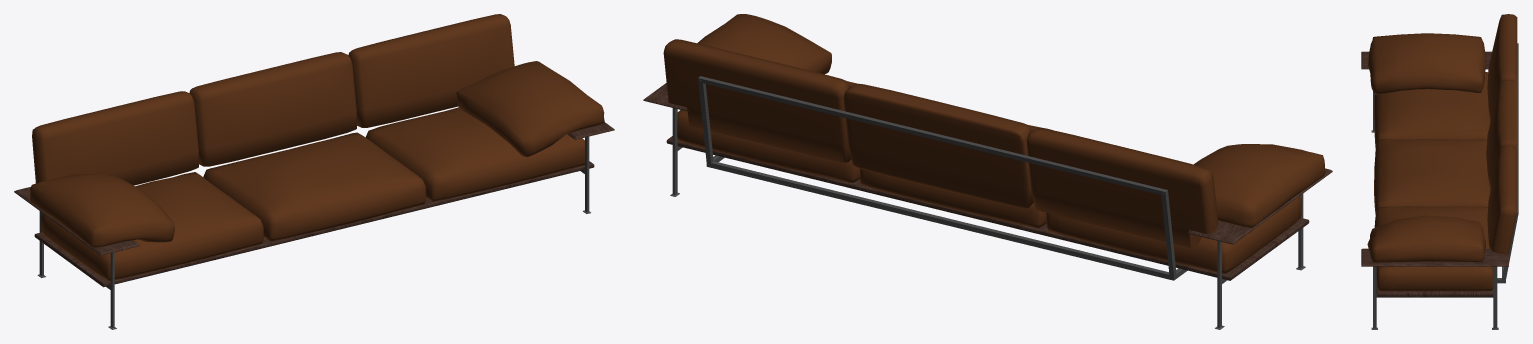
Rendered from luxury_sofa.glb.
The picture shows the model from 3 angles, left to right: view 1: azimuth 30°, elevation 25°; view 2: azimuth 150°, elevation 25°; view 3: azimuth 270°, elevation 25°; orthographic projection. The views are drawn at different scales.
Visible parts, largest first — view 1: Object_2; view 2: Object_2; view 3: Object_2.
Part boxes in pixels (x1,y1,x2,y2): Object_2: (14, 14, 614, 329); Object_2: (643, 14, 1332, 329); Object_2: (1361, 14, 1518, 329).
Bounding box in the file's own units: 13.09 × 3.44 × 4.05.
Materials: 1 (1 with a texture image).
